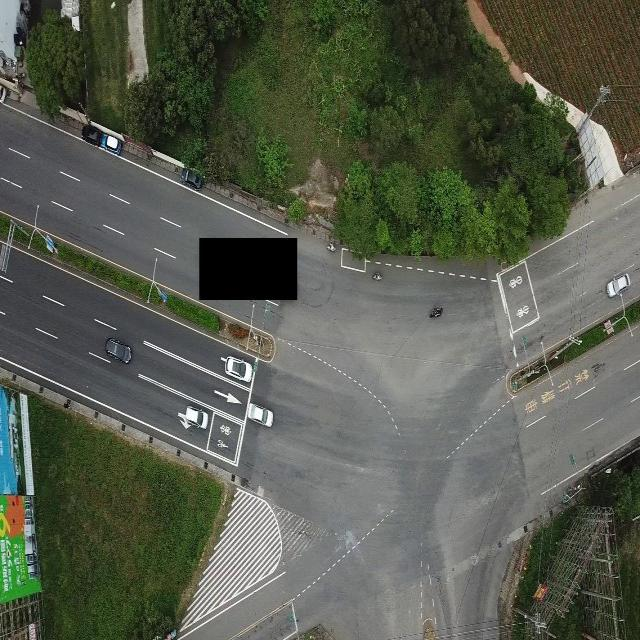bike: (79, 120, 99, 148), (429, 306, 443, 318), (326, 242, 336, 252), (372, 271, 382, 280)
car: (104, 336, 132, 364), (224, 355, 252, 383), (178, 405, 208, 431), (247, 402, 273, 428), (606, 272, 630, 298), (180, 167, 203, 190), (99, 133, 122, 156)
